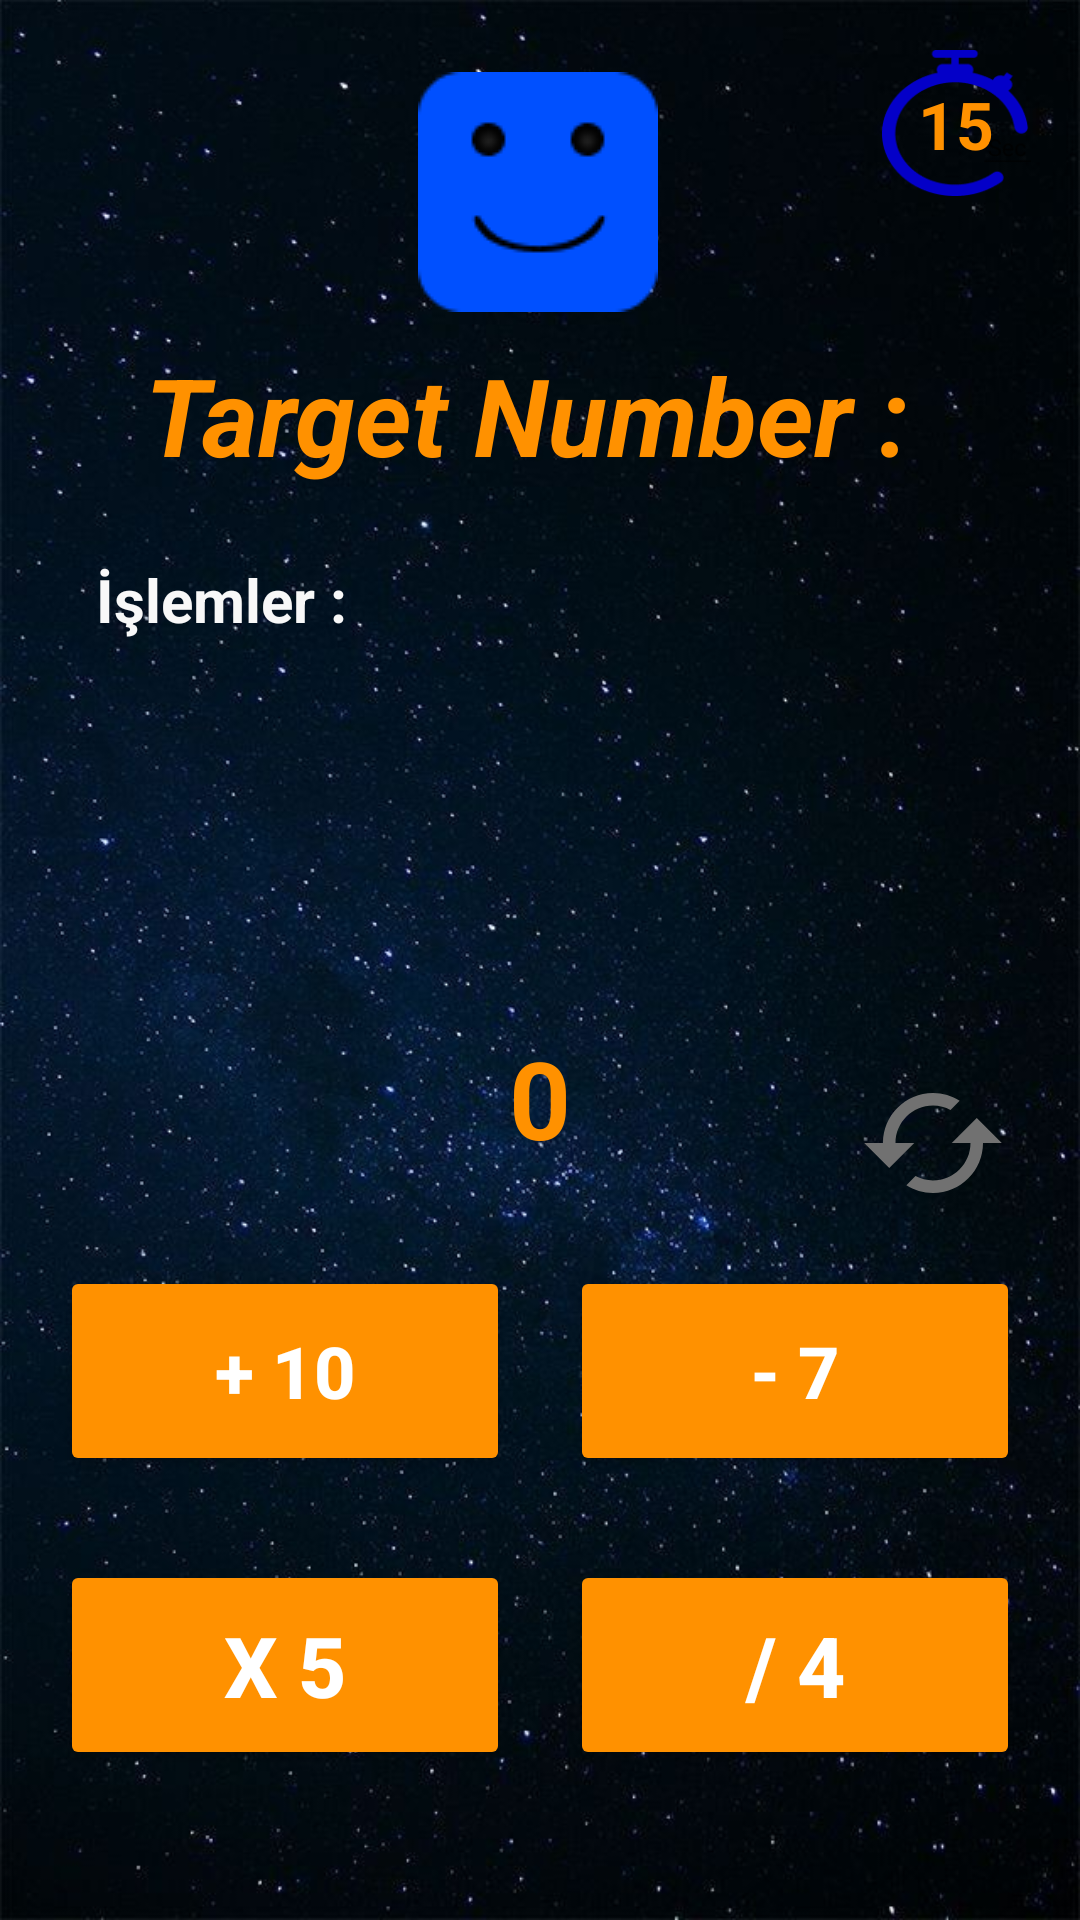

Screen size 1080w x 1920h. Icon name, then its center in pixels as point (x, y):
cached: point (932, 1142)
timer: point (955, 122)
